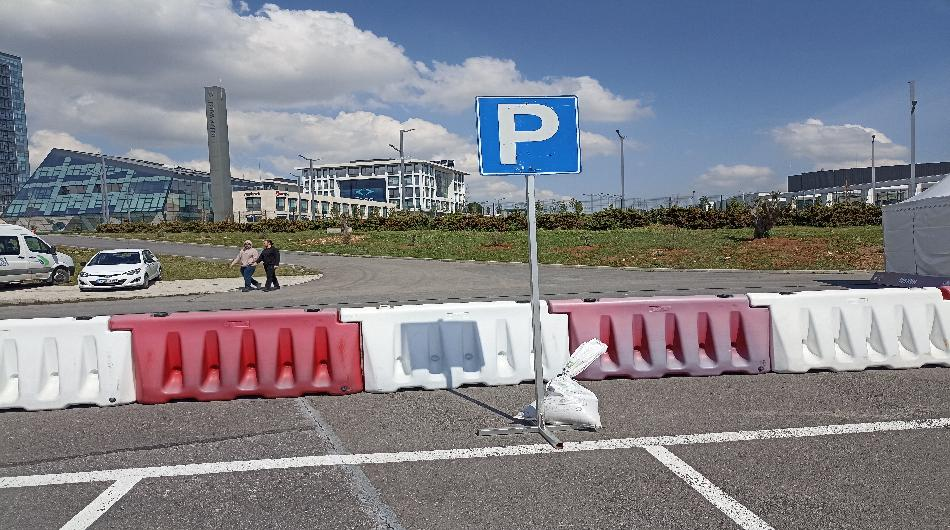park: (473, 93, 582, 176)
